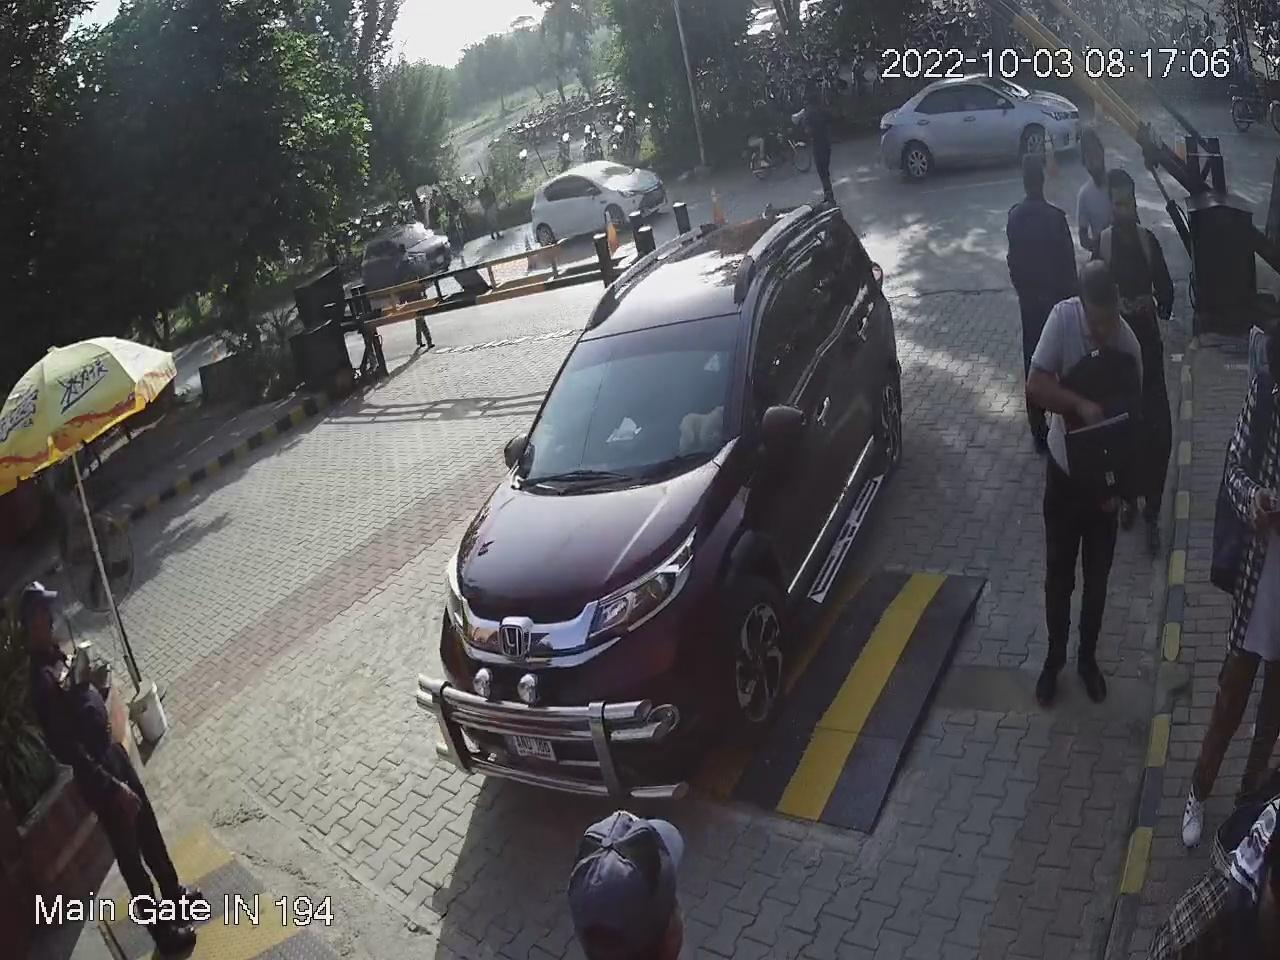windshield: (518, 303, 748, 475)
